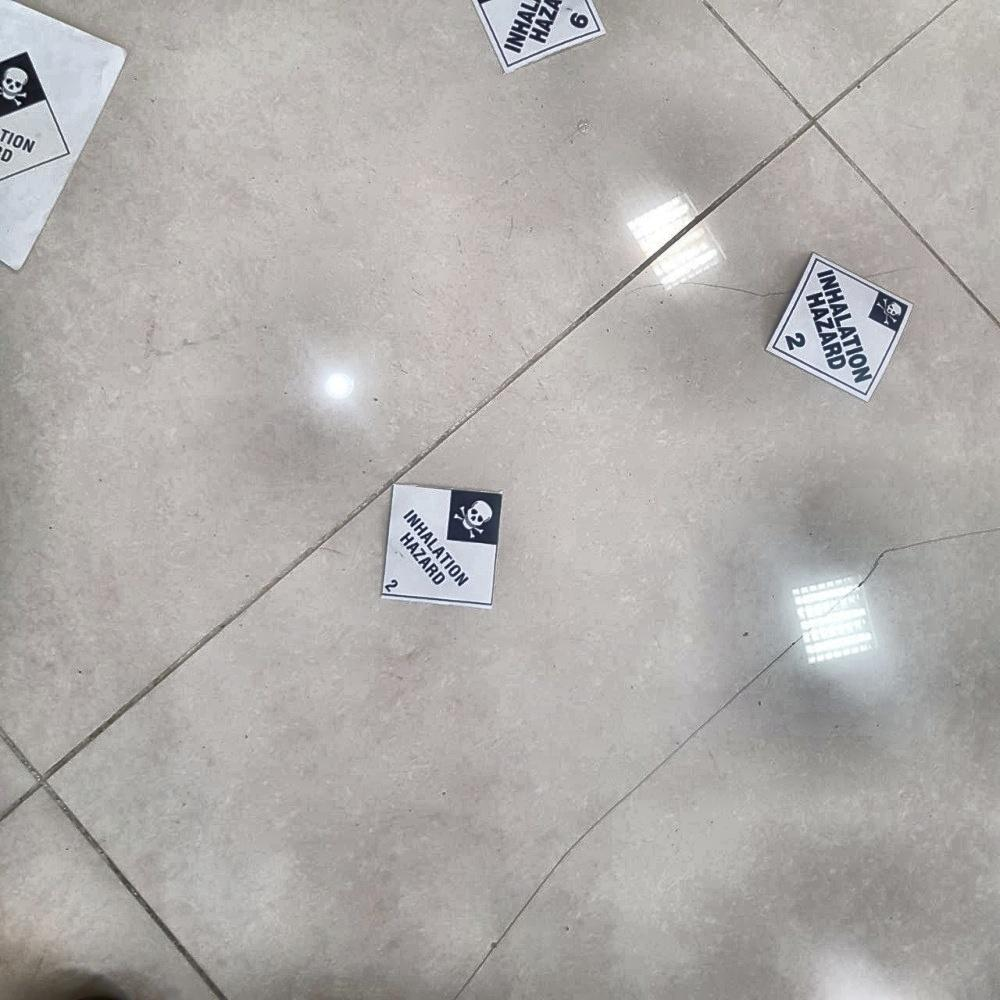poison: (770, 251, 909, 402), (379, 480, 505, 606), (1, 52, 71, 185), (472, 1, 602, 71)
